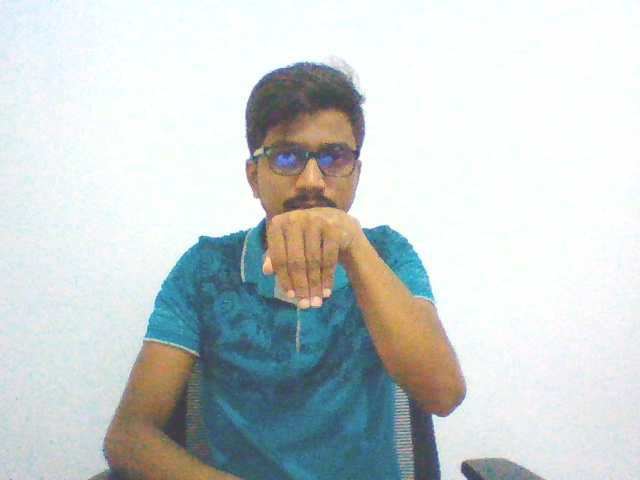Squirrel: (257, 197, 364, 319)
